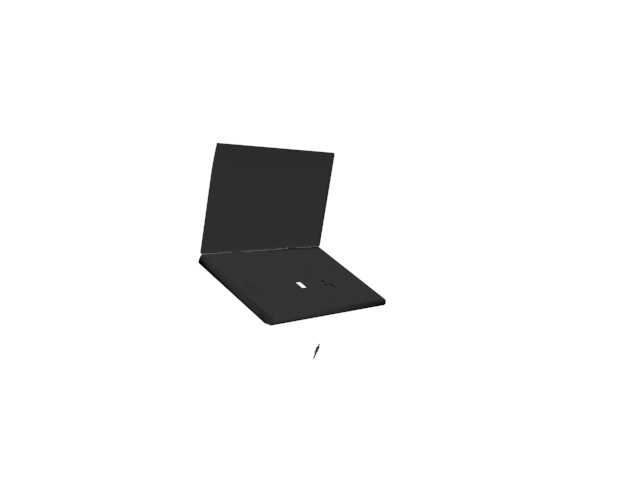laptop_computer: (193, 137, 392, 360)
